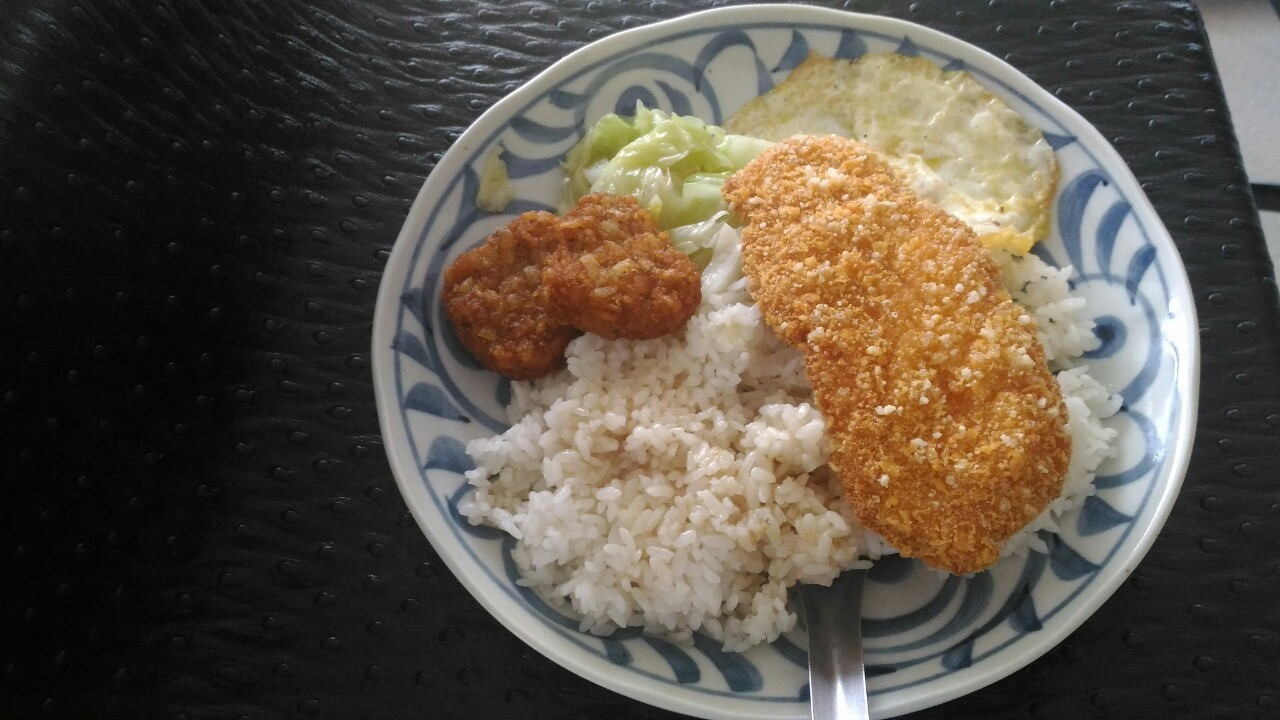chinese_cabbage: (553, 101, 735, 218)
fried_chicken: (713, 145, 1081, 583)
fried_eggs: (743, 58, 1056, 220)
rice: (509, 345, 813, 645)
triangle_hash_brown: (452, 192, 697, 385)
